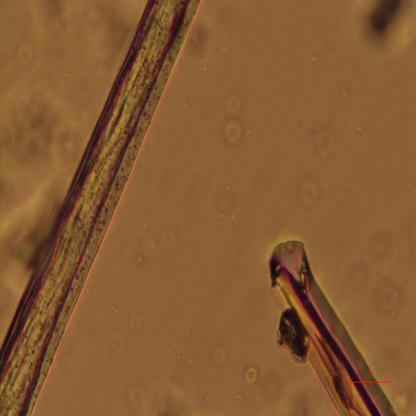Background material: (0, 79, 75, 269), (122, 370, 204, 414), (356, 0, 416, 52), (135, 213, 189, 269), (365, 217, 401, 276), (89, 1, 127, 54), (219, 88, 246, 148), (113, 309, 146, 356), (381, 274, 408, 316), (312, 124, 337, 162), (330, 190, 357, 224), (297, 175, 321, 209), (220, 183, 238, 226), (15, 43, 37, 70), (211, 346, 228, 367), (245, 364, 259, 388), (309, 50, 319, 65)
Microfibre: (0, 1, 200, 415), (262, 234, 375, 415)
